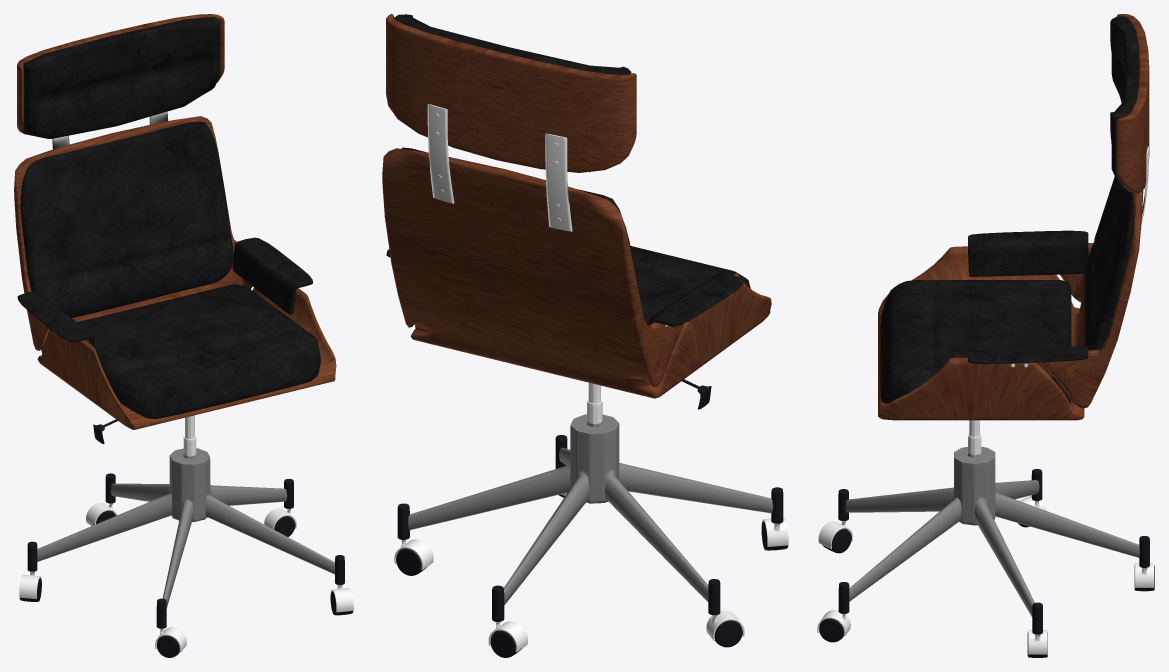
Rendered from 1960s_office_chair.glb.
3 views of the same model, side by side, from view 1: azimuth 30°, elevation 25°; view 2: azimuth 150°, elevation 25°; view 3: azimuth 270°, elevation 25° (orthographic). The views are drawn at different scales.
Parts seen in each view (by area): view 1: Almofada_Costas, Almofada, object 4, Base, Madeira_Acento, Rodinhas, Estofado_B_E, object 5, Estofado_B_D; view 2: Madeira_Acento, object 5, Base, Rodinhas, Ferro (×2), Almofada, Estofado_B_D, object 4; view 3: Madeira_Acento, Almofada, Base, Almofada_Costas, Estofado_B_D, Rodinhas, object 5, object 4, Estofado_B_E.
Part boxes in pixels (x1,y1,x2,y2): Almofada_Costas: (20,121,233,317); Almofada: (43,284,320,418); object 4: (22,16,219,138); Base: (37,415,334,607); Madeira_Acento: (14,116,336,429); Rodinhas: (19,473,353,657); Estofado_B_E: (232,237,312,314); object 5: (17,14,224,132); Estofado_B_D: (17,291,94,347); Madeira_Acento: (382,148,771,398); object 5: (386,14,636,172); Base: (408,382,773,604); Rodinhas: (394,435,788,657); Ferro (×2): (427,104,572,231); Almofada: (630,246,750,348); Estofado_B_D: (648,273,743,334); object 4: (393,14,631,172); Madeira_Acento: (878,190,1143,420); Almofada: (880,280,1071,403); Base: (845,420,1139,616); Almofada_Costas: (1084,176,1134,350); Estofado_B_D: (968,230,1088,276); Rodinhas: (817,469,1154,657); object 5: (1116,14,1149,193); object 4: (1110,16,1139,191); Estofado_B_E: (968,346,1088,377).
Size of the model in its own units: 0.8519 by 1.44 by 0.8322.
Materials: 1 (1 with a texture image).
